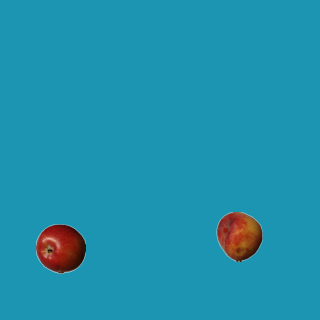Apple Braeburn: (35, 223, 85, 273)
Peach: (214, 211, 264, 261)
